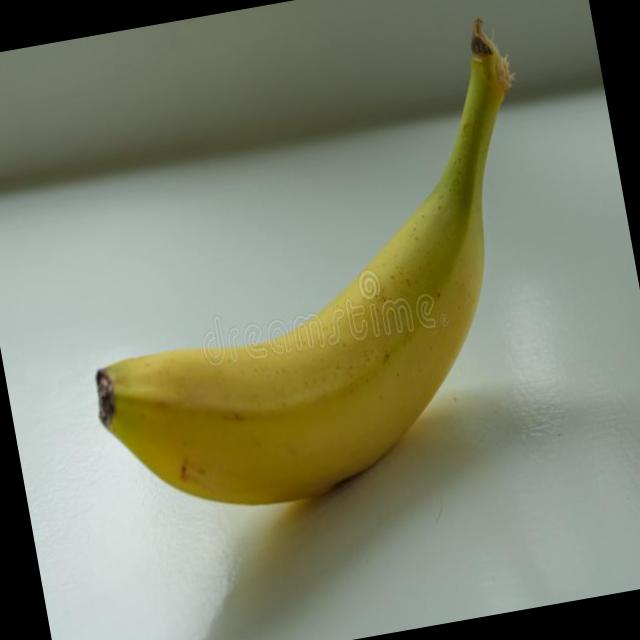banana: (41, 22, 580, 536)
